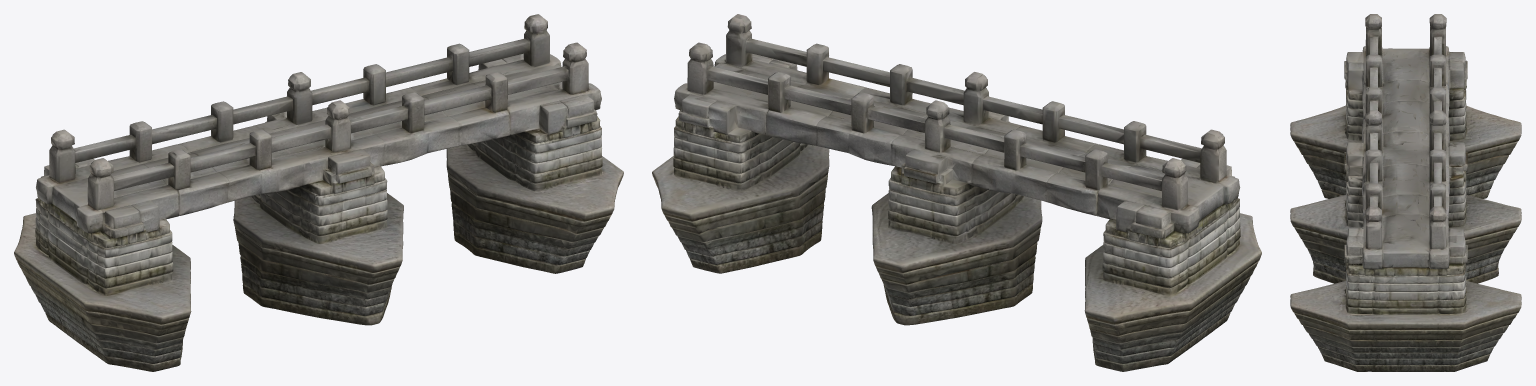
The picture shows the model from 3 angles, left to right: view 1: azimuth 30°, elevation 25°; view 2: azimuth 150°, elevation 25°; view 3: azimuth 270°, elevation 25°; orthographic projection. The views are drawn at different scales.
Parts seen in each view (by area): view 1: node_0; view 2: node_0; view 3: node_0.
Boxes of the visible parts, <box> form: node_0: <box>14,14,623,371</box>; node_0: <box>652,14,1261,371</box>; node_0: <box>1290,14,1521,371</box>.
Size of the model in its own units: 1.17 by 0.4041 by 0.5201.
1 material, 1 textured.
